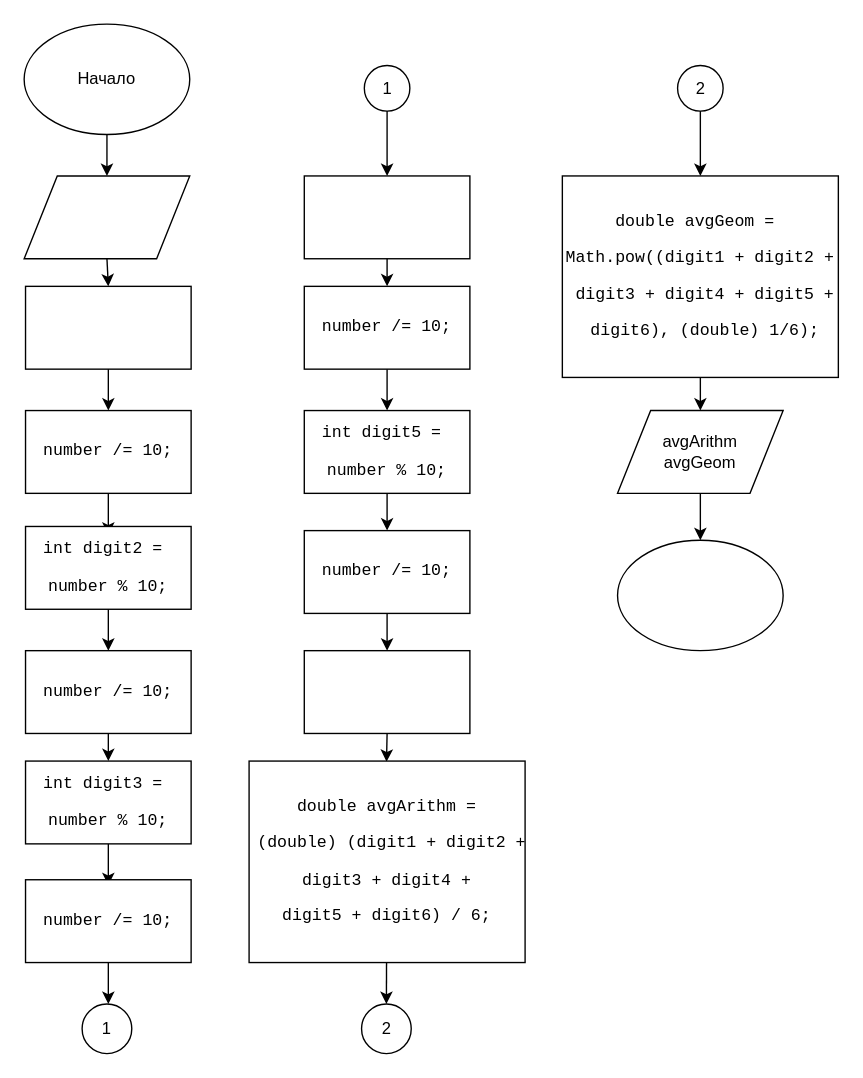
Image size: 863x1078. Some labels were removed from this diagram. Here are the shapes that lost their labels. From the top down, the centre of each, then its label:
At (x=106, y=217): "Ввод number".
At (x=386, y=217): "int digit4 = number % 10 ;".
At (x=107, y=327): "int digit1 = number % 10 ;".
At (x=699, y=595): "Конец".
At (x=386, y=691): "int digit6 = number % 10 ;".
